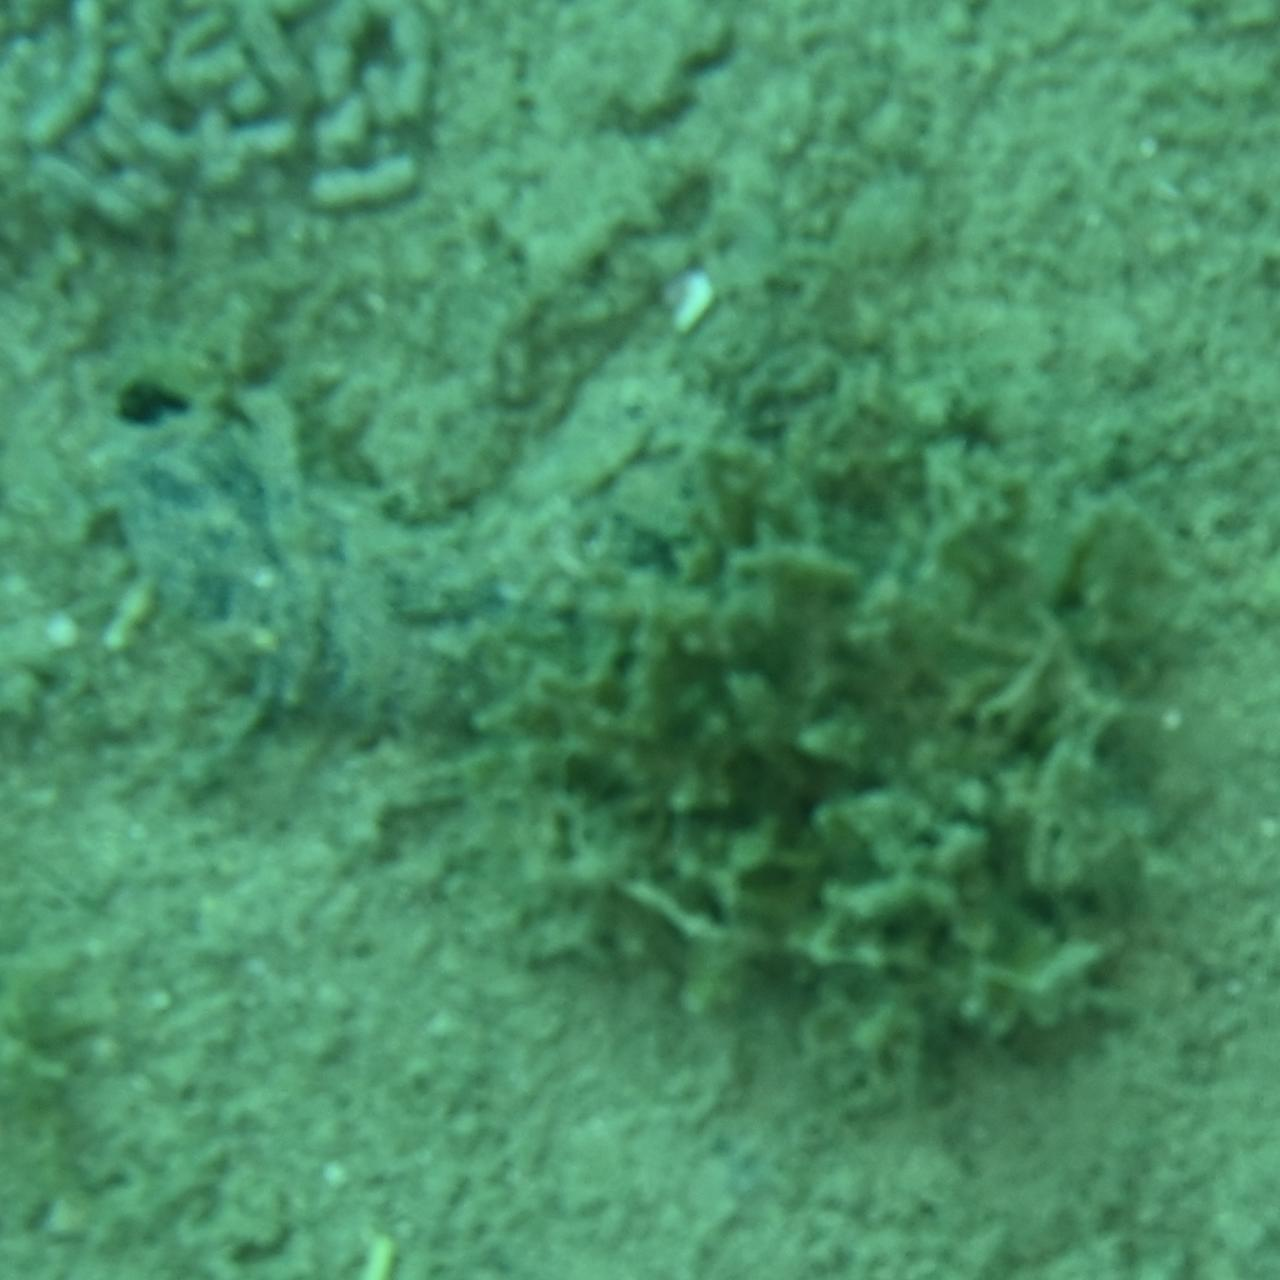Holothuria tubulosa: (60, 321, 772, 738)
Phaeophyceae -cfr Cystoseira-: (499, 392, 1231, 1110)
